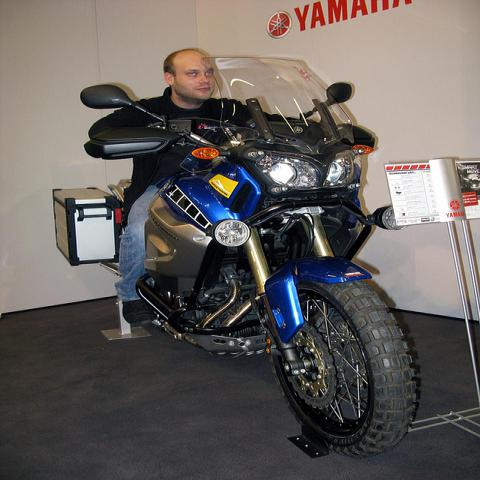motorcycle: (53, 57, 420, 455)
